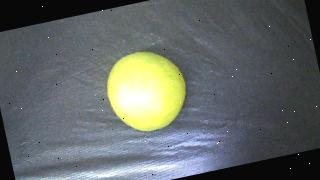LOCAL: (101, 44, 194, 138)
